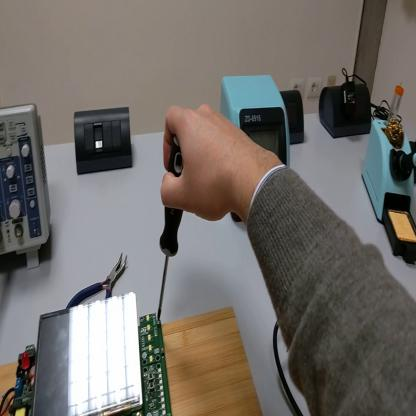hand: (161, 102, 253, 222)
low voltage board: (1, 293, 172, 416)
oscilloscope: (2, 102, 52, 273)
pliers: (67, 253, 129, 310)
screwdriver-: (156, 137, 183, 323)
socket: (319, 82, 373, 141), (280, 92, 306, 146)
welder base: (363, 84, 416, 265)
welder probe tip: (398, 152, 415, 177)
welder station: (220, 77, 291, 169)
working area: (2, 309, 262, 416)
